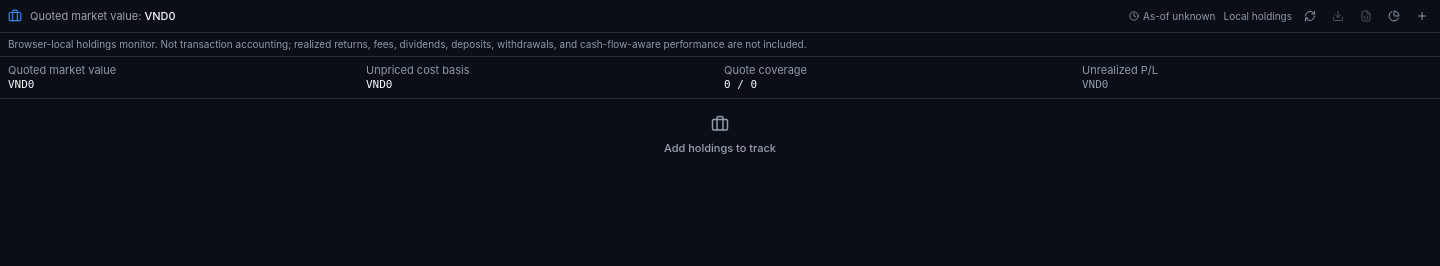
Test: Holdings Tracker saved positions › renders a P/L above 100% at its true magnitude
Click the button titled "Add position". click: {"x": 1422, "y": 16}
box: [1412,6,1432,26]
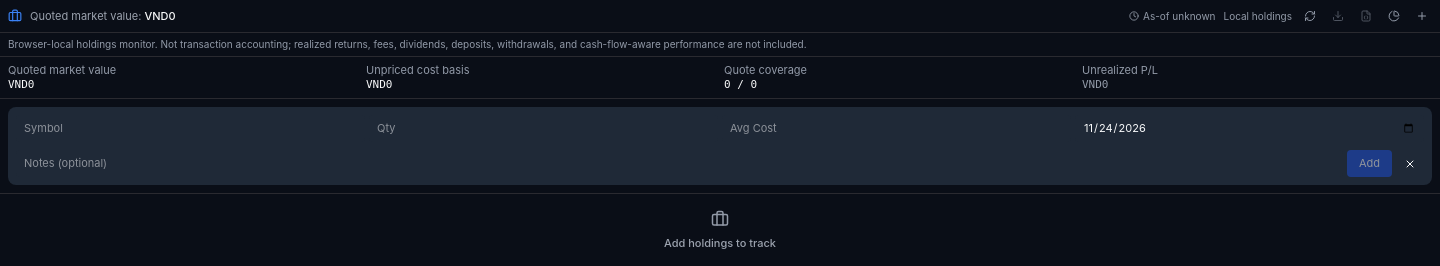
Type "FPT" into the field with placeholder "Symbol". click: {"x": 190, "y": 129}
box: [16,115,365,142]
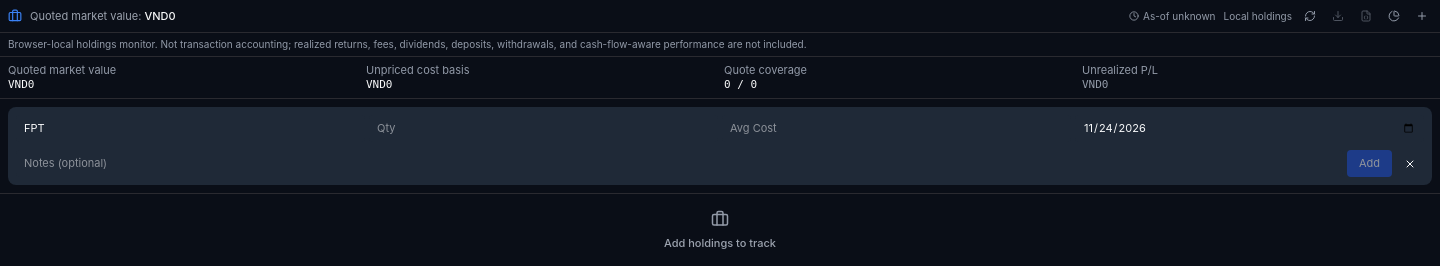
Type "2" into the number field with placeholder "Qty". click: {"x": 544, "y": 129}
box: [369,115,718,142]
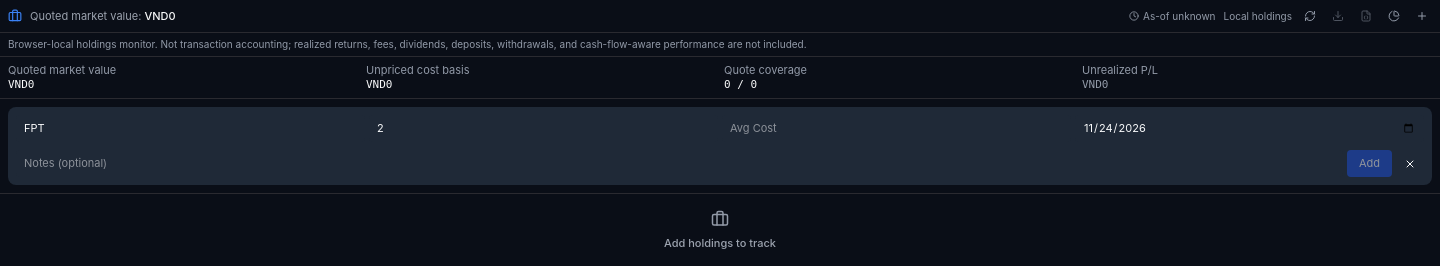
Type "1000" into the number field with placeholder "Avg Cost". click: {"x": 896, "y": 129}
box: [722,115,1071,142]
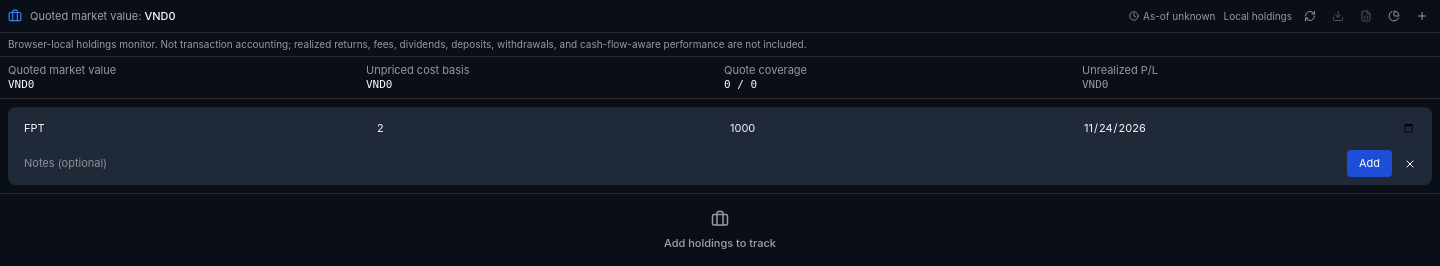
Click the button "Add". click: {"x": 1369, "y": 164}
box: [1347,150,1392,177]
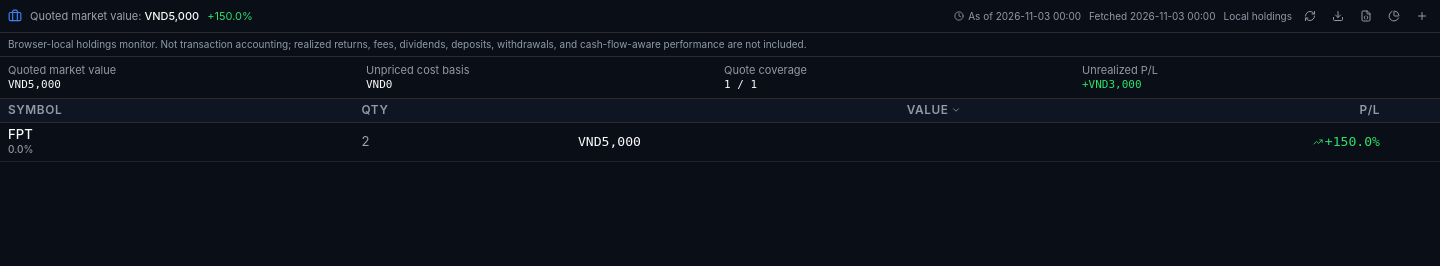
Expected: the text "+150.0%" is shown, [1313,134,1380,149]
